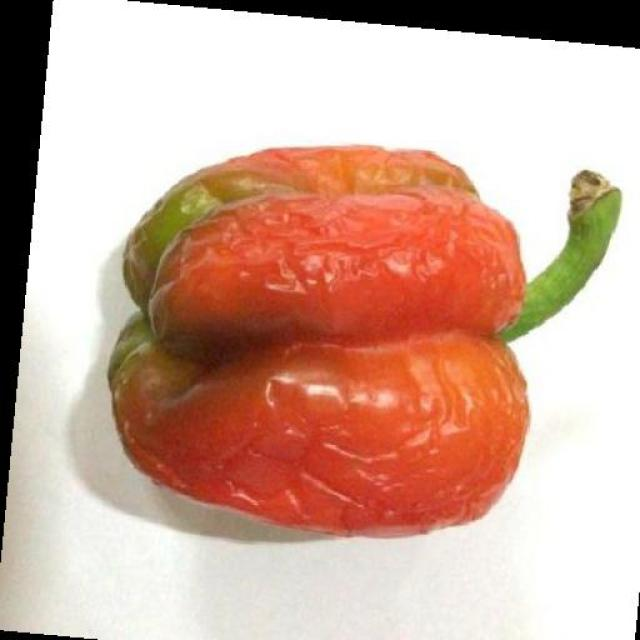Stale_Capsicum: (85, 124, 568, 590)
